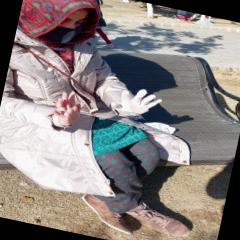gloved: (106, 84, 166, 121)
not-gloved: (44, 87, 88, 130)
